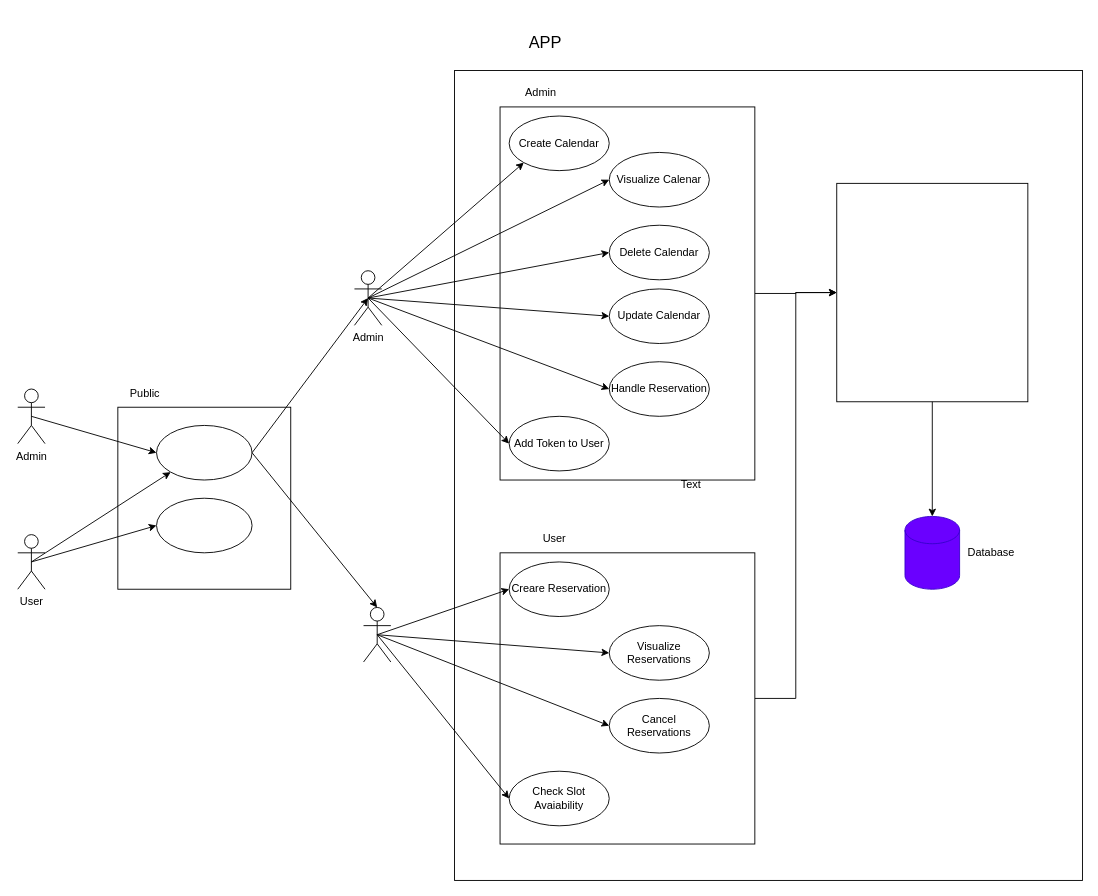
Some shapes in this 1098 by 896 pixel diagram are drawn without their labels. The box of each missing label's shape, as (x1, y1, x2, y2) in pixels:
LOGIN: (156, 425, 252, 480)
REGISTER: (156, 497, 252, 553)
User authenticated: (363, 607, 391, 662)
VALIDATION BUISNESS LOGIC: (836, 182, 1028, 402)
